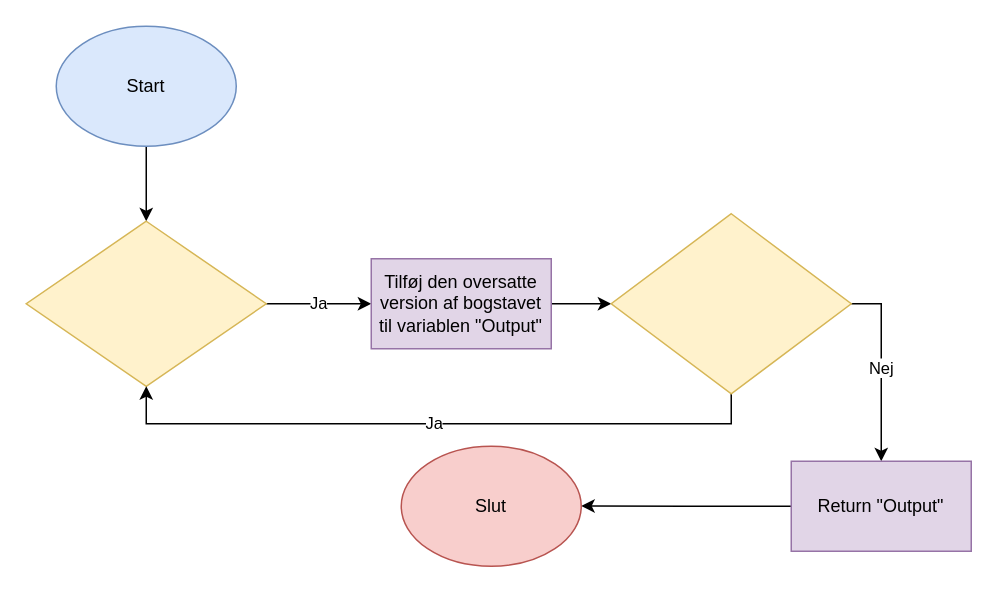
Image size: 998x593. Some labels were removed from this diagram. The box of each missing label's shape, as (x1, y1, x2, y2) in pixels:
Er bogstavet/tegnet i morsekode dict?: (25, 220, 266, 386)
Er der flere tegn der skal oversættes?: (610, 212, 851, 394)
